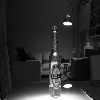beer: (46, 25, 65, 100)
